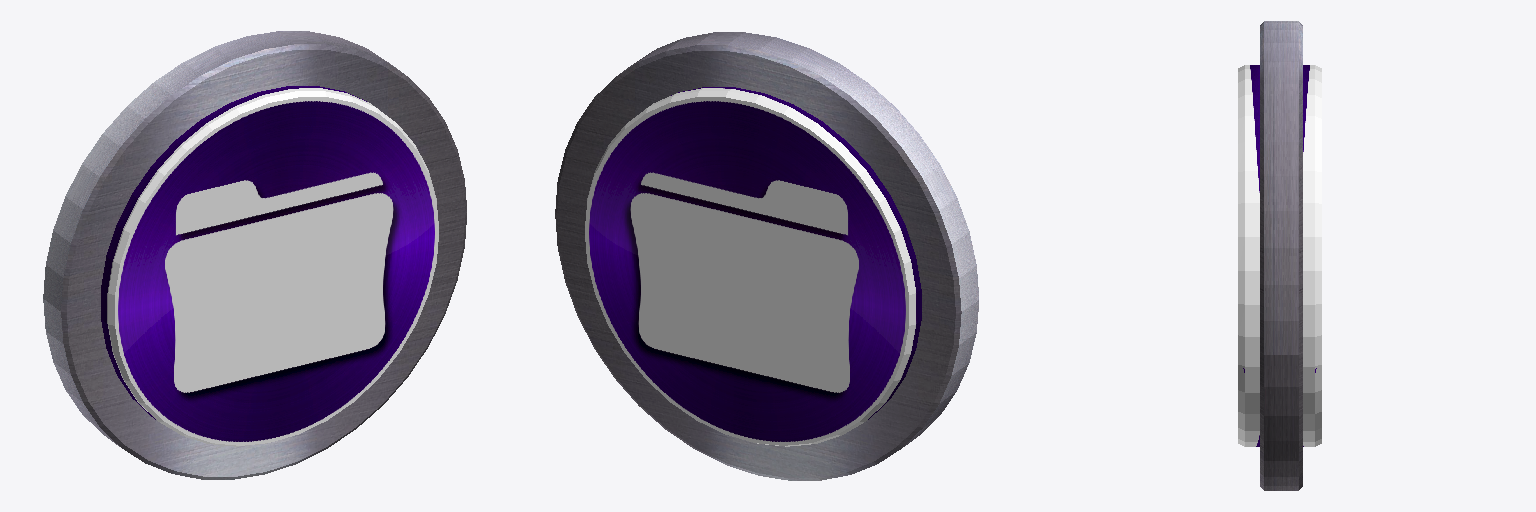
3 views of the same model, side by side, from view 1: azimuth 30°, elevation 25°; view 2: azimuth 150°, elevation 25°; view 3: azimuth 270°, elevation 25° (orthographic).
Visible parts, largest first — view 1: ChamferCyl003, ChamferCyl004; view 2: ChamferCyl003, ChamferCyl004; view 3: ChamferCyl004, ChamferCyl003.
Part boxes in pixels (left/top/right/bottom): ChamferCyl003: left=101, top=86, right=438, bottom=446; ChamferCyl004: left=43, top=31, right=466, bottom=479; ChamferCyl003: left=585, top=87, right=921, bottom=446; ChamferCyl004: left=555, top=32, right=978, bottom=480; ChamferCyl004: left=1260, top=21, right=1302, bottom=490; ChamferCyl003: left=1238, top=65, right=1321, bottom=446.
Bounding box in the file's own units: 0.4127 × 0.4127 × 0.0731.
2 materials, 2 textured.